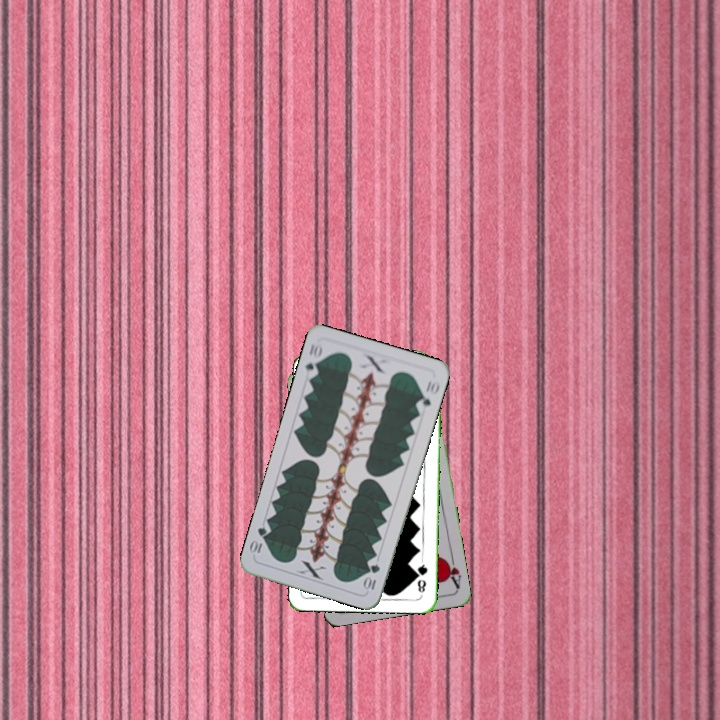G10: (301, 339, 325, 380), (361, 560, 383, 594)
G8: (413, 556, 430, 595)
HA: (441, 550, 464, 590)
